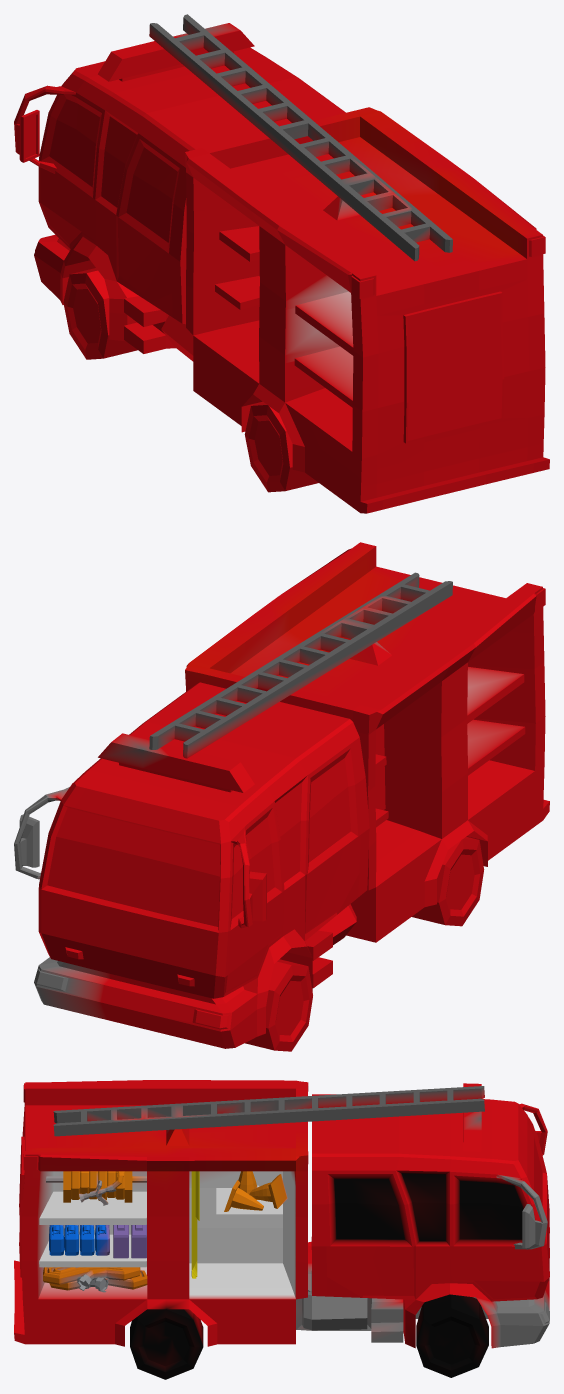
File: FireTruck1.fbx
3 views of the same model, one above another, from view 1: azimuth 30°, elevation 25°; view 2: azimuth 150°, elevation 25°; view 3: azimuth 270°, elevation 25° (orthographic). The views are drawn at different scales.
Visible parts, largest first — view 1: FireTruck1.100; view 2: FireTruck1.100; view 3: FireTruck1.100, Equipment.001.
Boxes of the visible parts, x1,y1,x2,y2 form: FireTruck1.100: [14, 14, 549, 513]; FireTruck1.100: [14, 542, 549, 1051]; FireTruck1.100: [14, 1080, 549, 1379]; Equipment.001: [43, 1171, 287, 1292].
Bounding box in the file's own units: 288 × 343 × 672.
